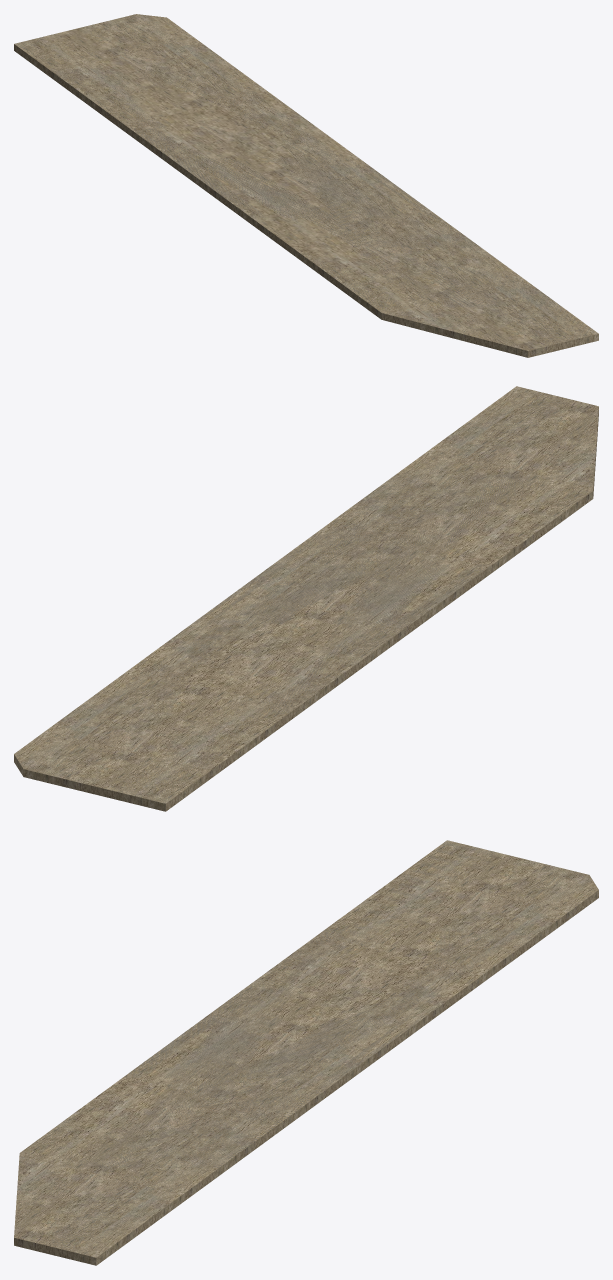
Rendered from Wood 2.fbx.
3 views of the same model, one above another, from view 1: azimuth 30°, elevation 25°; view 2: azimuth 150°, elevation 25°; view 3: azimuth 330°, elevation 25° (orthographic). The views are drawn at different scales.
Parts seen in each view (by area): view 1: Model; view 2: Model; view 3: Model.
Part boxes in pixels (x1,y1,x2,y2): Model: [14, 14, 598, 357]; Model: [14, 386, 598, 811]; Model: [14, 840, 598, 1265].
Bounding box in the file's own units: 59.28 × 2.75 × 321.
